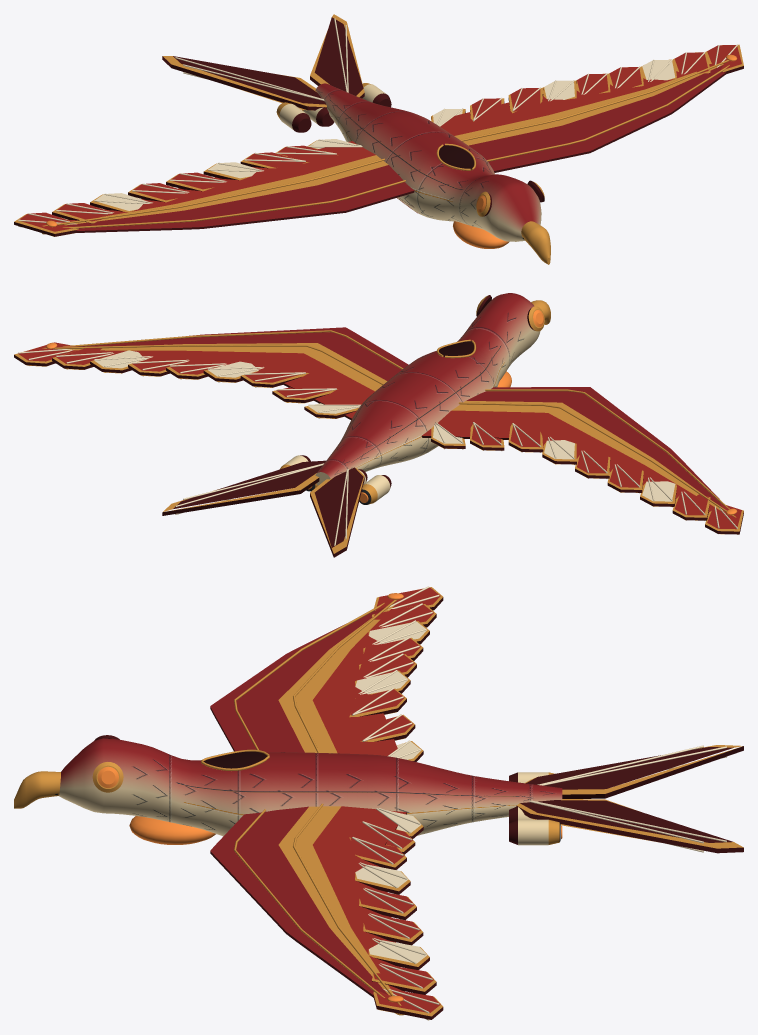
3 renders of one model, top to bottom at view 1: azimuth 30°, elevation 25°; view 2: azimuth 150°, elevation 25°; view 3: azimuth 270°, elevation 25°, orthographic. The views are drawn at different scales.
Parts seen in each view (by area): view 1: frigatebird_hull; view 2: frigatebird_hull; view 3: frigatebird_hull.
Part boxes in pixels (x1,y1,x2,y2): frigatebird_hull: (14, 14, 743, 264); frigatebird_hull: (14, 293, 743, 557); frigatebird_hull: (14, 586, 743, 1020).
Bounding box in the file's own units: 88 × 9.38 × 63.18.
1 material, 1 textured.
